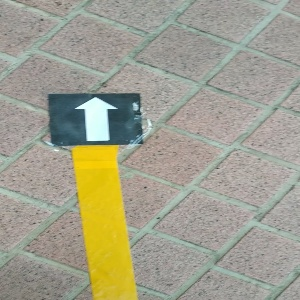straight: (47, 93, 144, 145)
